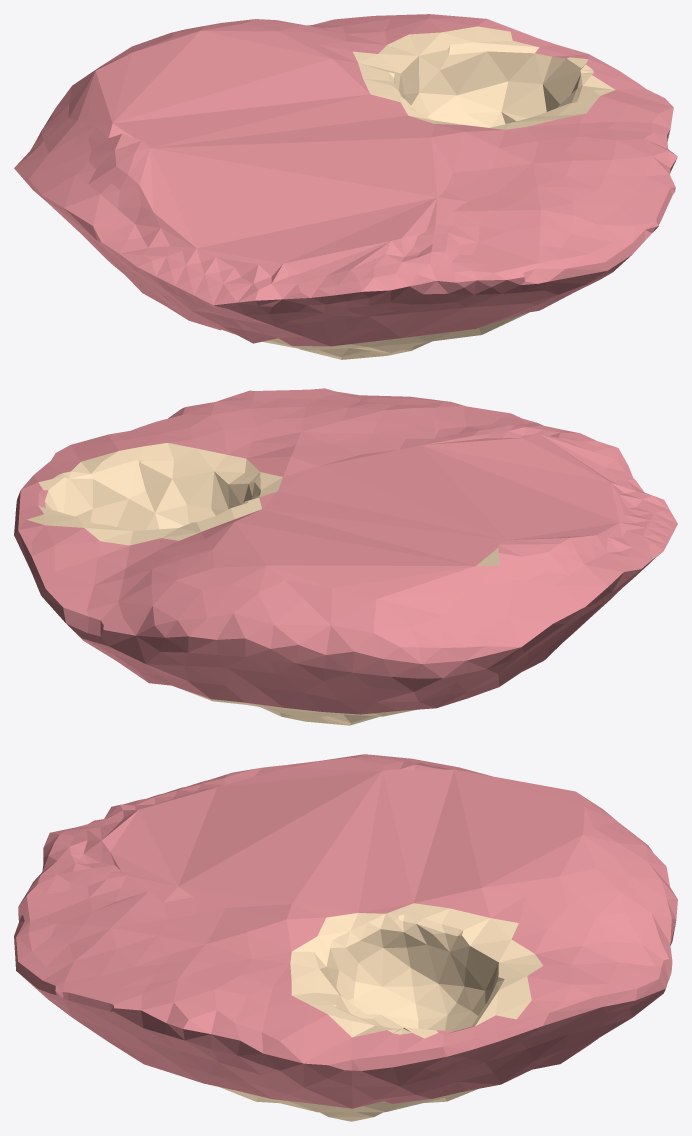
The model's file is huiTerrain1_01.fbx.
The picture shows the model from 3 angles, top to bottom: view 1: azimuth 30°, elevation 25°; view 2: azimuth 150°, elevation 25°; view 3: azimuth 270°, elevation 25°; orthographic projection. The views are drawn at different scales.
Visible parts, largest first — view 1: Icosphere; view 2: Icosphere; view 3: Icosphere.
Boxes of the visible parts, x1,y1,x2,y2 form: Icosphere: (14,14,677,359); Icosphere: (14,388,677,725); Icosphere: (14,754,677,1121).
Bounding box in the file's own units: 2030 × 836 × 1955.
